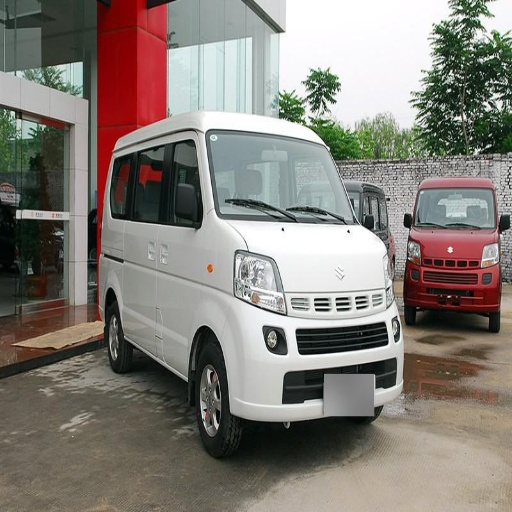front_bumper: (221, 288, 403, 422)
front_right_door: (155, 133, 205, 362)
front_right_light: (234, 250, 285, 314)
